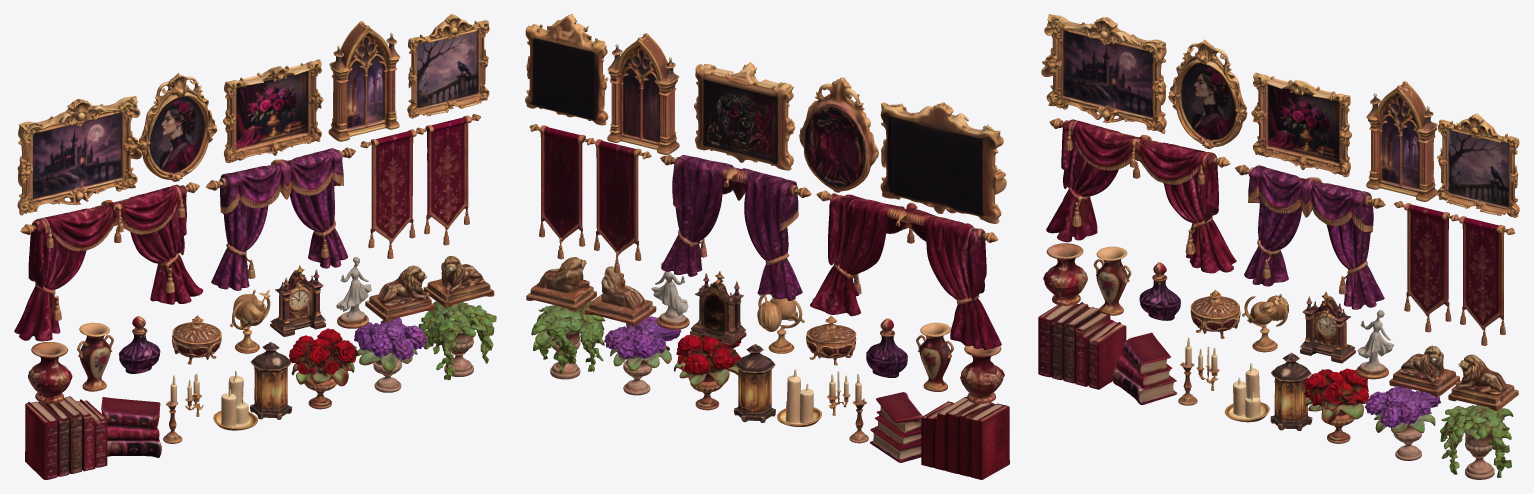
Rendered from interior-decorations.glb.
The picture shows the model from 3 angles, left to right: view 1: azimuth 30°, elevation 25°; view 2: azimuth 150°, elevation 25°; view 3: azimuth 330°, elevation 25°; orthographic projection.
Visible parts, largest first — view 1: model; view 2: model; view 3: model.
Part boxes in pixels (x1,y1,x2,y2): model: (14,14,496,479); model: (525,14,1009,479); model: (1038,14,1519,479).
Bounding box in the file's own units: 1.9 × 1.4 × 0.2858.
1 material, 1 textured.
